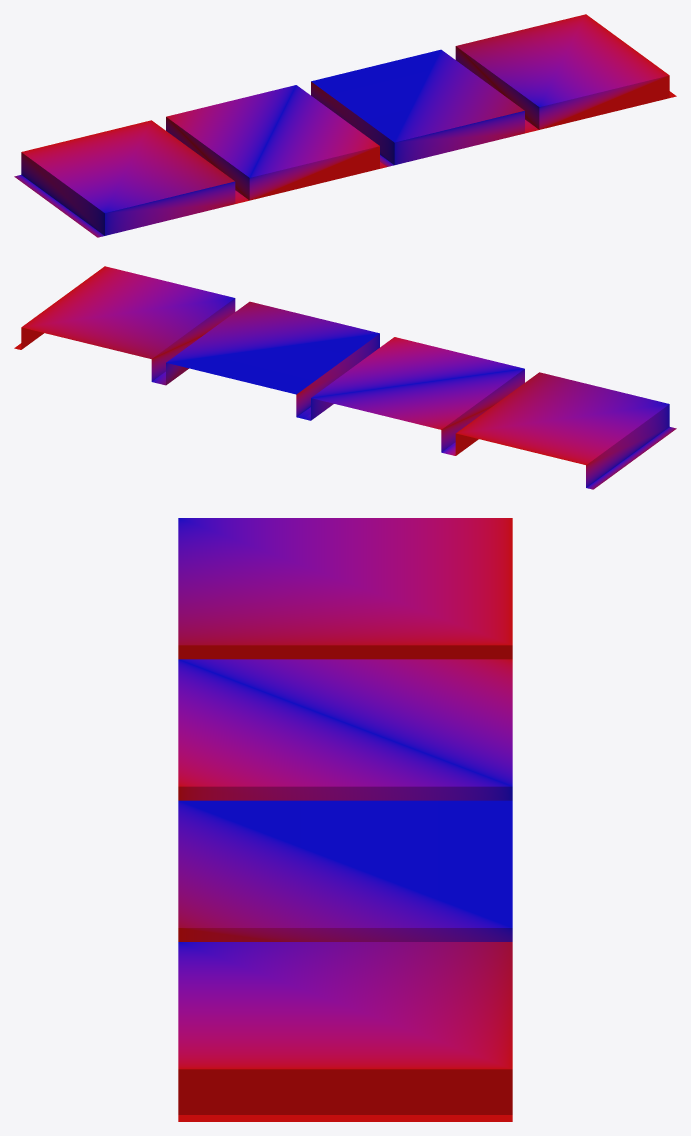
The model's file is CeilingA_B_4x2.fbx.
The picture shows the model from 3 angles, top to bottom: view 1: azimuth 30°, elevation 25°; view 2: azimuth 150°, elevation 25°; view 3: azimuth 270°, elevation 25°; orthographic projection. The views are drawn at different scales.
Visible parts, largest first — view 1: Plane.002; view 2: Plane.002; view 3: Plane.002.
Boxes of the visible parts, box(x1,y1,x2,y2) form: Plane.002: box(14, 14, 676, 237); Plane.002: box(14, 266, 676, 489); Plane.002: box(178, 518, 512, 1121).
Size of the model in its own units: 800 by 30 by 200.
